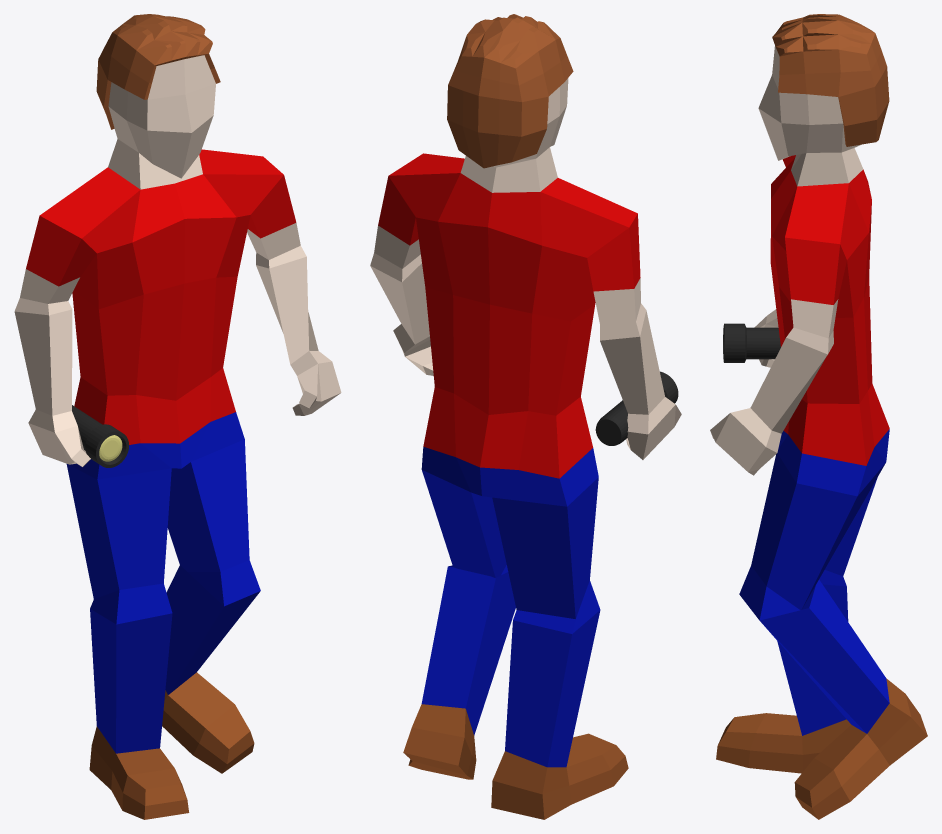
File: Human_walking_1.fbx
The picture shows the model from 3 angles, left to right: view 1: azimuth 30°, elevation 25°; view 2: azimuth 150°, elevation 25°; view 3: azimuth 270°, elevation 25°; orthographic projection. The views are drawn at different scales.
Parts seen in each view (by area): view 1: Person.001, Cylinder.001; view 2: Person.001, Cylinder.001; view 3: Person.001, Cylinder.001.
Boxes of the visible parts, x1,y1,x2,y2 form: Person.001: [14, 14, 341, 819]; Cylinder.001: [72, 405, 129, 467]; Person.001: [370, 14, 681, 819]; Cylinder.001: [595, 371, 678, 445]; Person.001: [710, 14, 927, 819]; Cylinder.001: [723, 323, 780, 362].
Bounding box in the file's own units: 0.6107 × 1.58 × 0.4095.
